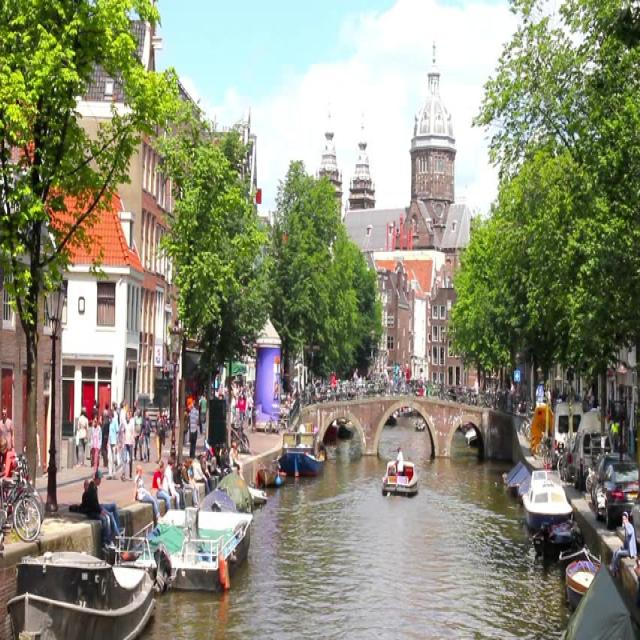body: (525, 373, 640, 456), (179, 375, 253, 432), (181, 442, 245, 498), (80, 466, 118, 554), (90, 395, 142, 452), (81, 479, 126, 537), (605, 508, 637, 573), (134, 464, 164, 527), (22, 416, 41, 504), (0, 434, 19, 518), (390, 359, 428, 397), (151, 459, 173, 513), (120, 409, 136, 482), (191, 449, 212, 503), (180, 455, 200, 509), (106, 409, 120, 480), (172, 457, 189, 515), (89, 414, 103, 482), (77, 406, 90, 470), (187, 400, 200, 460), (140, 408, 153, 463), (0, 405, 15, 452), (162, 456, 177, 501), (132, 406, 144, 462), (100, 408, 111, 468), (154, 408, 165, 464), (392, 444, 404, 491), (283, 374, 297, 414), (234, 392, 246, 437), (198, 392, 208, 441), (228, 440, 241, 476), (179, 406, 189, 446), (504, 378, 515, 413), (351, 365, 360, 400), (470, 375, 480, 405), (158, 400, 170, 423), (329, 369, 337, 392)
